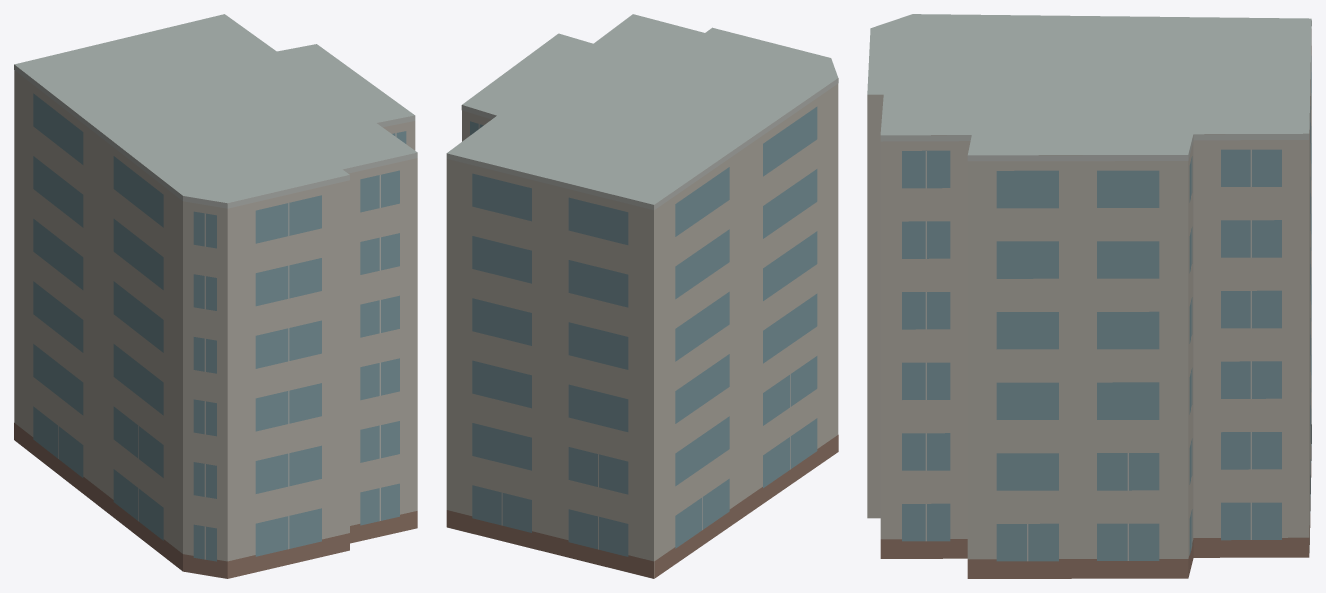
Rendered from survey-upis-32567842.glb.
3 renders of one model, left to right at view 1: azimuth 30°, elevation 25°; view 2: azimuth 150°, elevation 25°; view 3: azimuth 270°, elevation 25°, orthographic. The views are drawn at different scales.
Visible parts, largest first — view 1: survey-upis-32567842.tmp; view 2: survey-upis-32567842.tmp; view 3: survey-upis-32567842.tmp.
Part boxes in pixels (x1,y1,x2,y2): survey-upis-32567842.tmp: (14, 14, 417, 578); survey-upis-32567842.tmp: (446, 14, 838, 578); survey-upis-32567842.tmp: (867, 14, 1311, 578).
Size of the model in its own units: 12.02 by 16.8 by 15.98.
